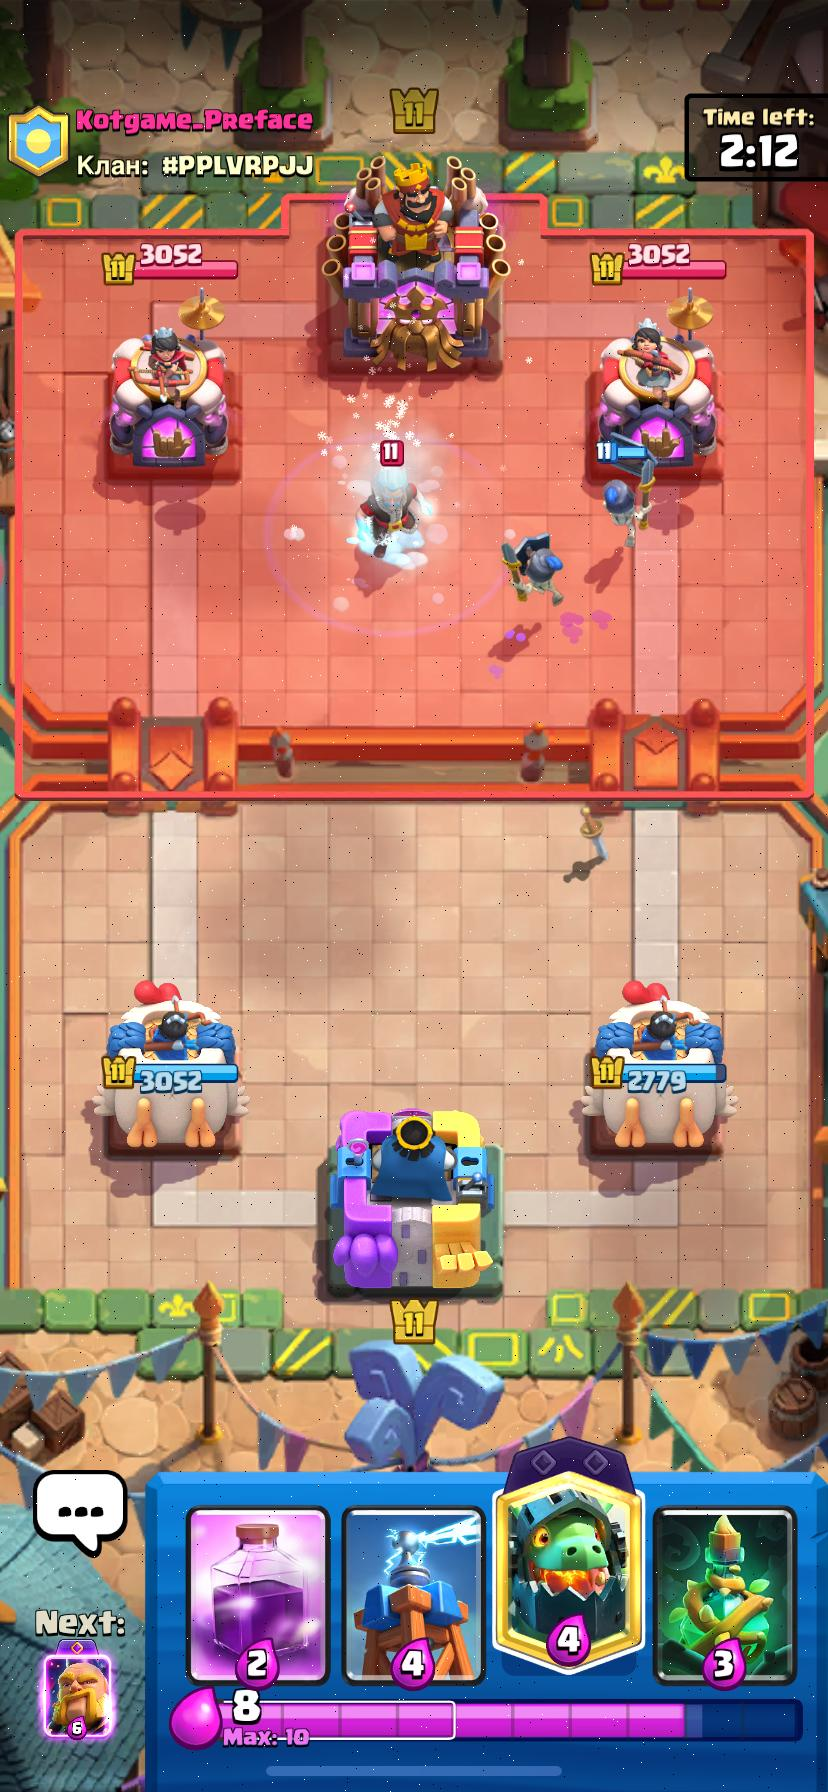EIceWizard: (356, 465, 424, 566)
EKingTower: (323, 157, 509, 370)
EnemyPrincessTower: (596, 318, 716, 467), (109, 326, 225, 466)
OGuard: (604, 458, 654, 547), (502, 533, 562, 605)
OwnKingTower: (328, 1109, 502, 1295)
OwnPrincessTower: (583, 981, 735, 1151), (93, 982, 247, 1149)
